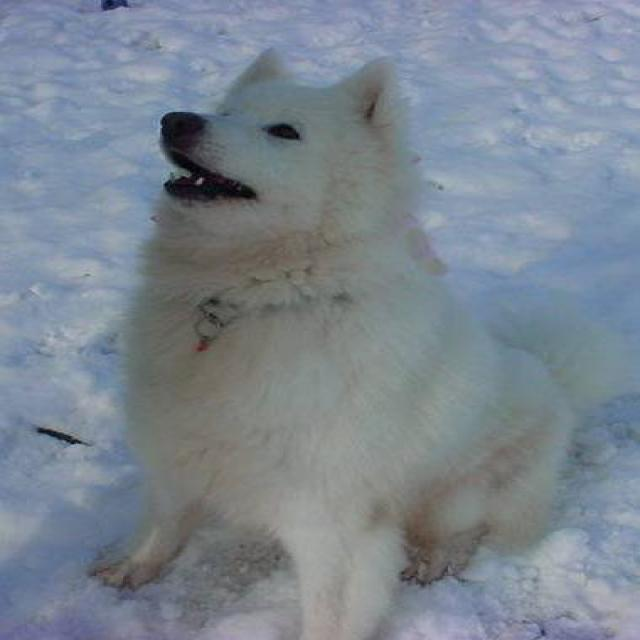Dog: (147, 38, 417, 235)
